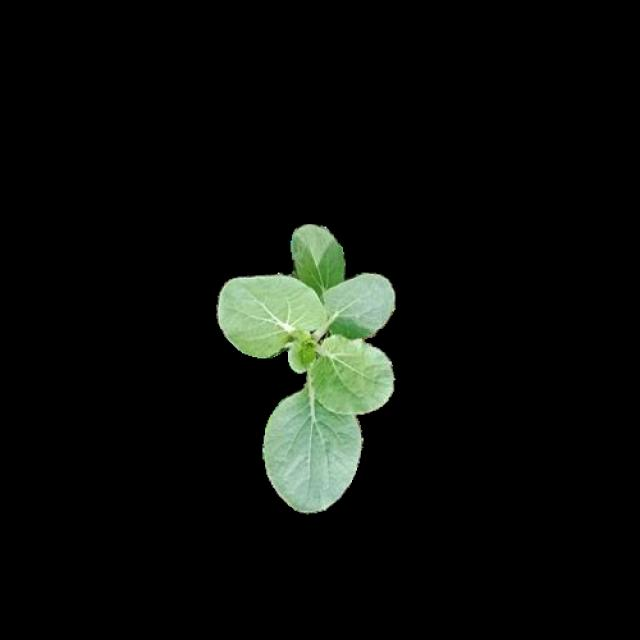healthy: (214, 223, 393, 508)
not-mature: (217, 225, 396, 511)
